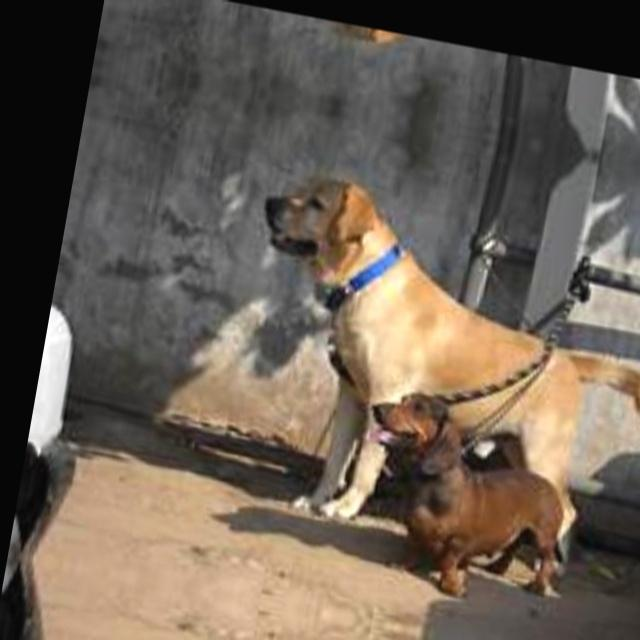dog: (209, 166, 640, 442), (342, 390, 578, 615), (269, 9, 640, 92)
